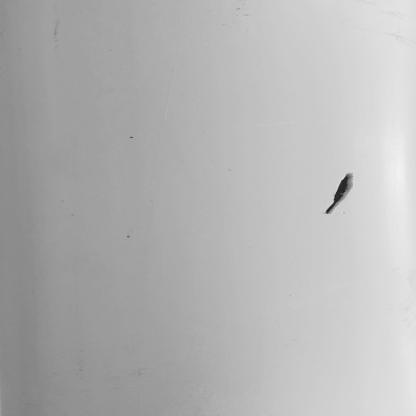kongdong: (323, 171, 356, 216)
